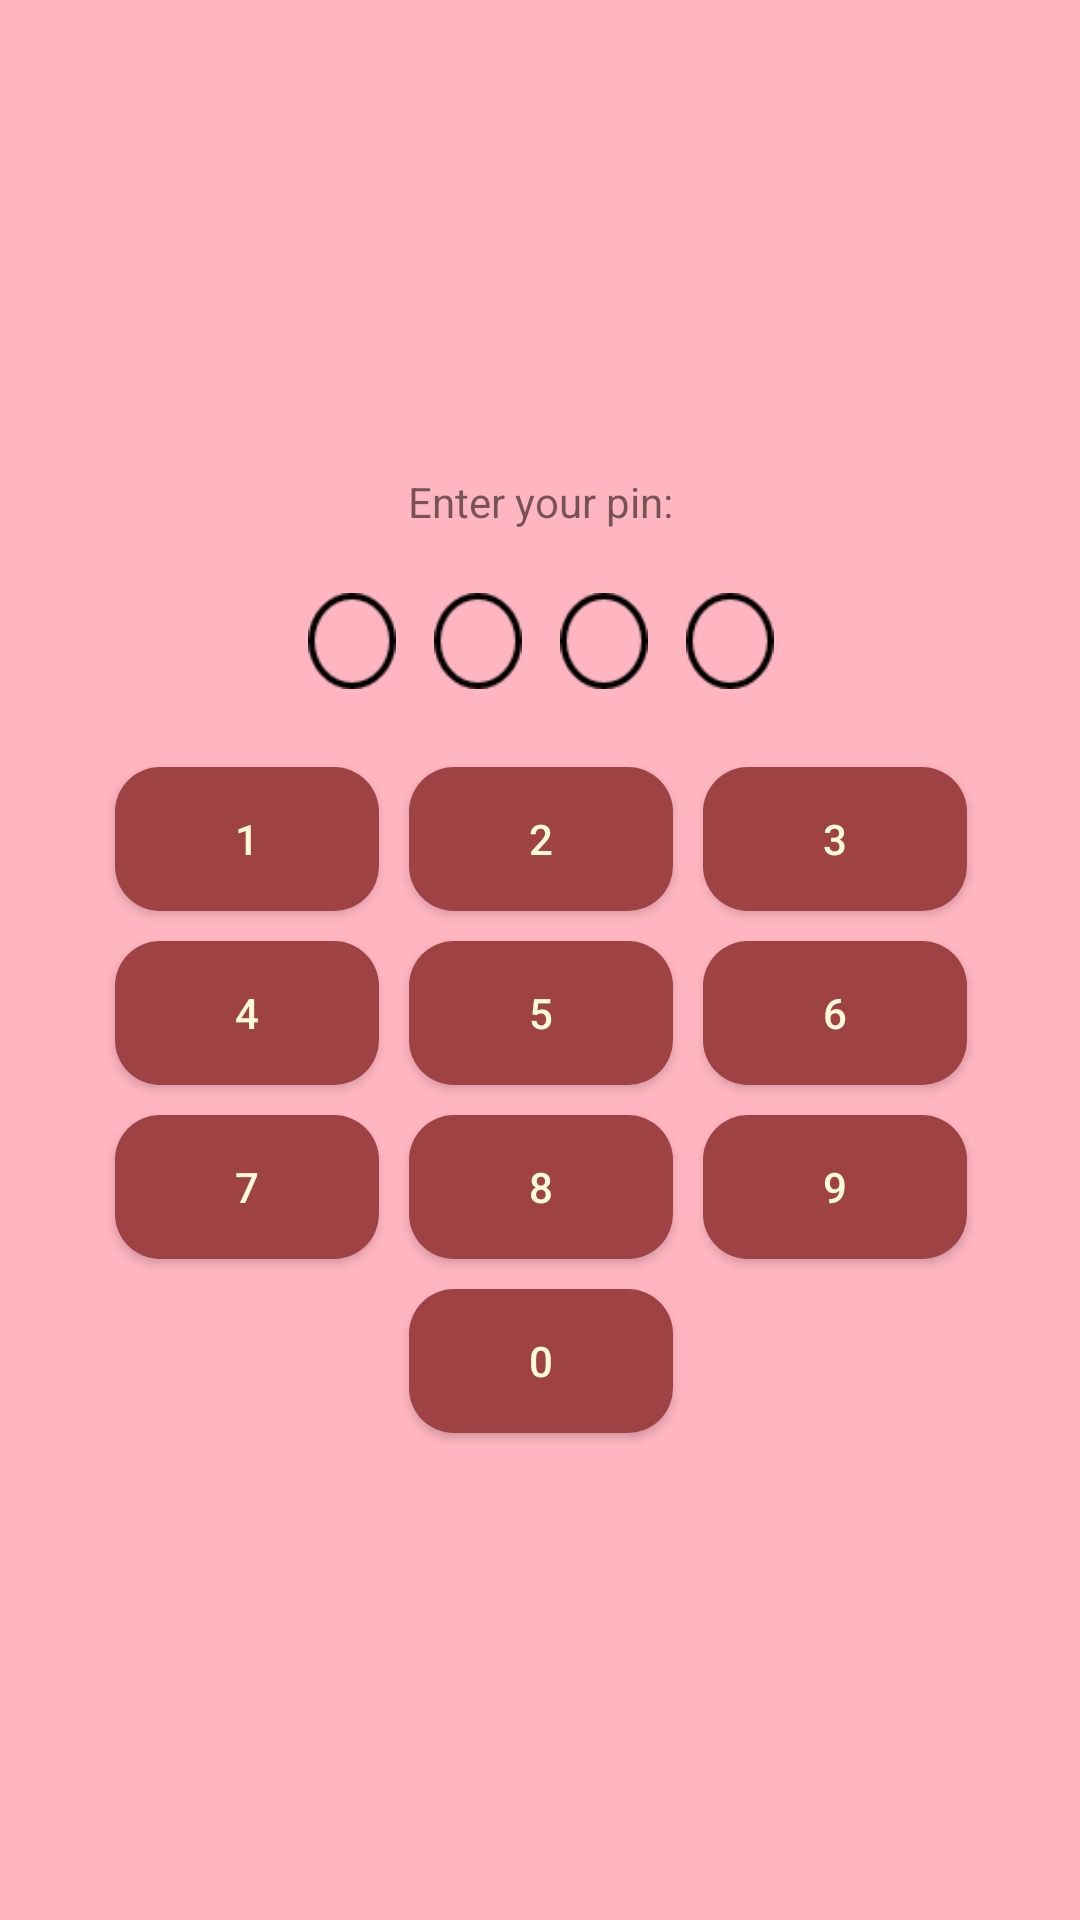

Where to tap for icons on this 1080*1920 app screen, as point (x, y):
circle empty: point (352, 641), point (478, 641), point (604, 641), point (730, 641)
